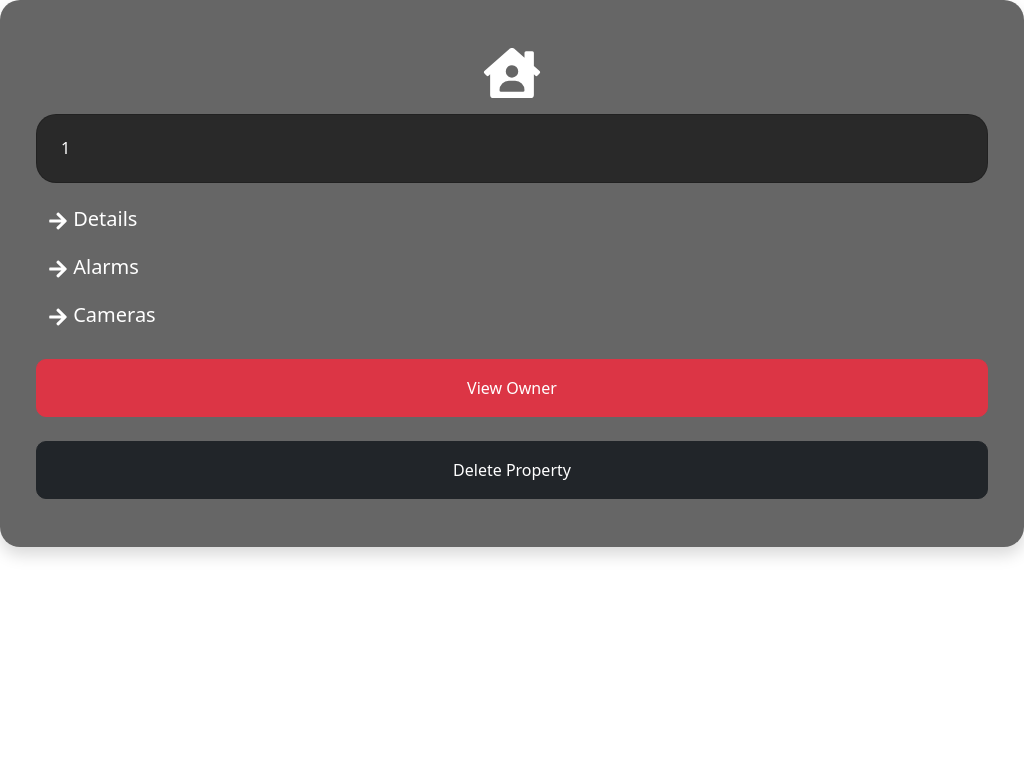
<PropertyCard /> › it should display property cameras
The width and height of the screenshot is (1024, 768).
# View the content
Click the heading "Cameras".
click(102, 315)  # box [48,301,156,328]
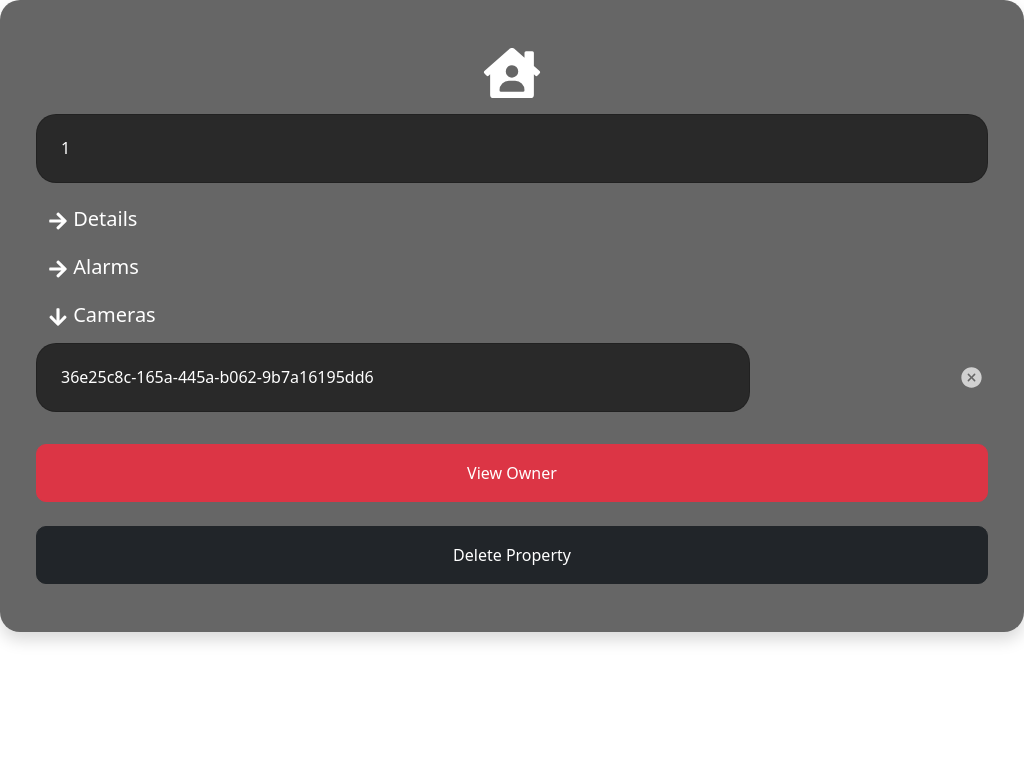
Expected: the heading "36e25c8c-165a-445a-b062-9b7a16195dd6" is shown, [61,366,374,388]
